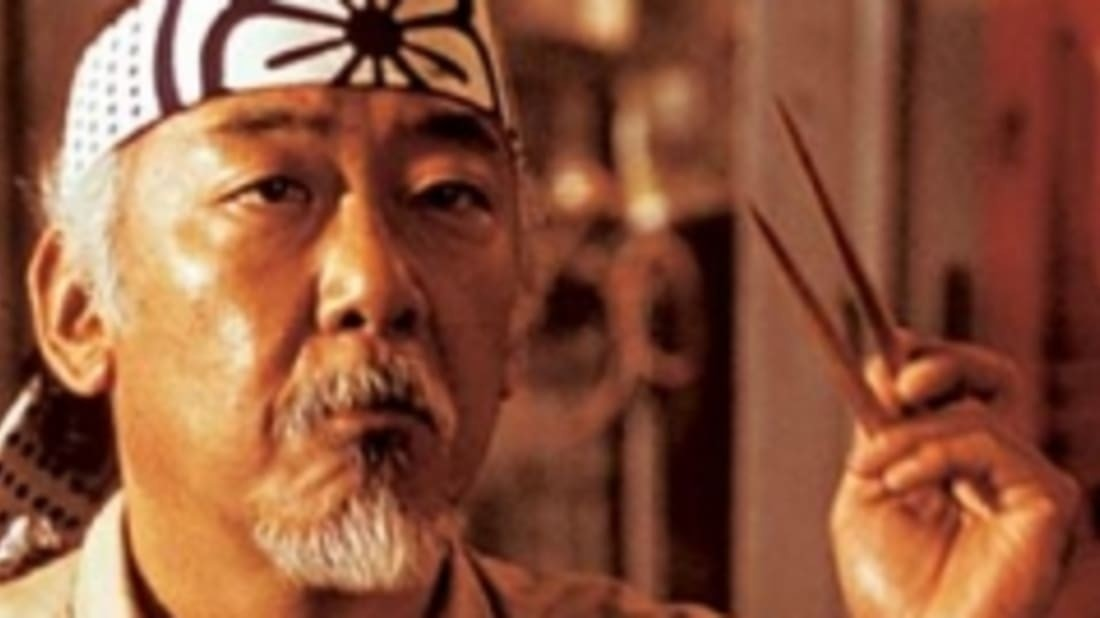face_no_mask: (64, 10, 529, 596)
